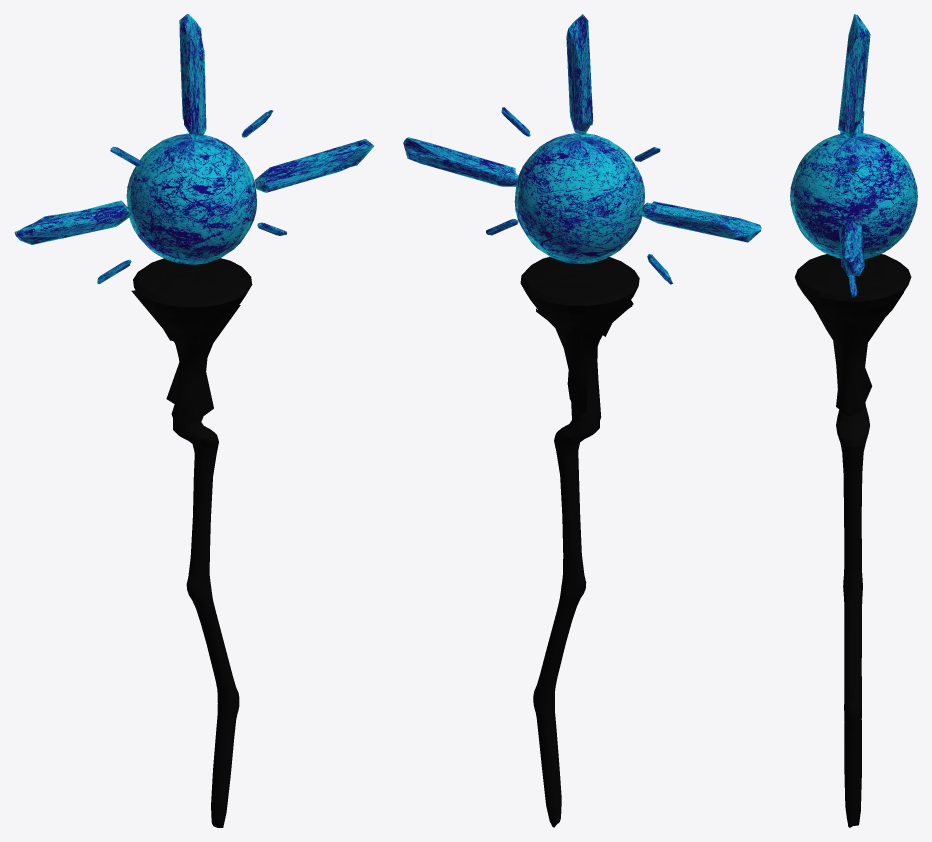
Rendered from treasurefinder.fbx.
3 views of the same model, side by side, from view 1: azimuth 30°, elevation 25°; view 2: azimuth 150°, elevation 25°; view 3: azimuth 270°, elevation 25° (orthographic). The views are drawn at different scales.
Visible parts, largest first — view 1: staff2; view 2: staff2; view 3: staff2.
Part boxes in pixels (left/top/right/bottom): staff2: left=14, top=14, right=373, bottom=827; staff2: left=403, top=14, right=761, bottom=827; staff2: left=790, top=14, right=917, bottom=827.
Bounding box in the file's own units: 0.4357 × 0.951 × 0.138.
Materials: 4 (1 with a texture image).
